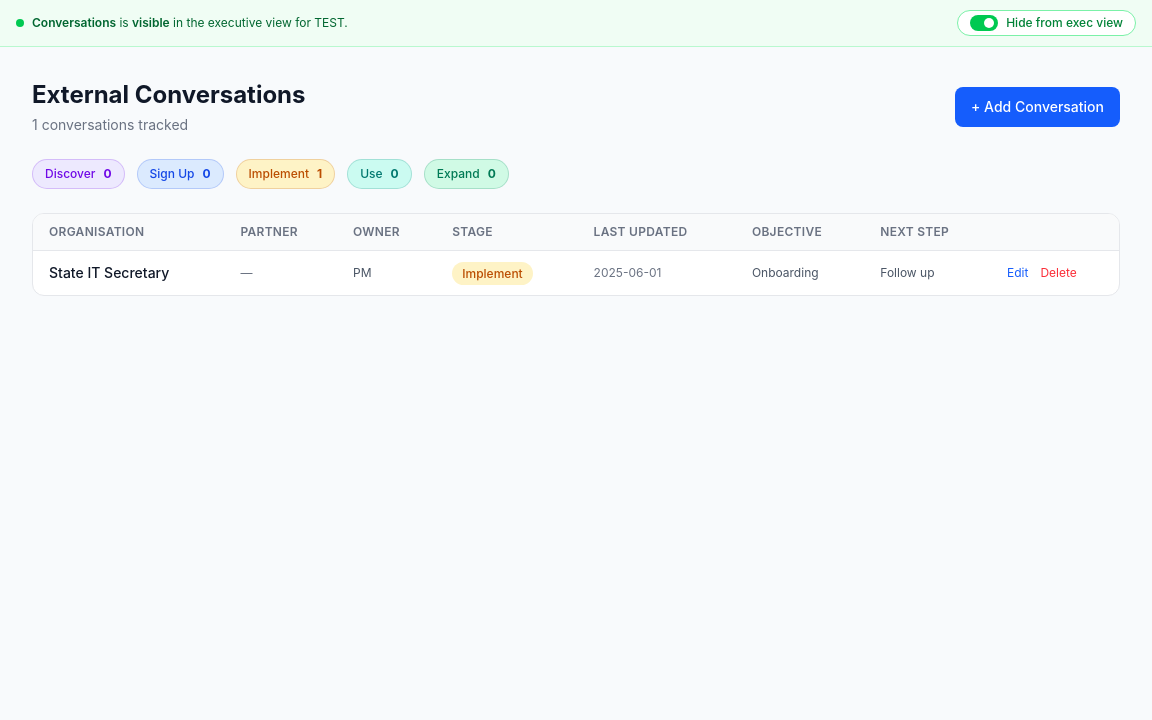
ConversationEditor › T-38.08: editing existing conversation saves via else branch
expect the text "State IT Secretary" is shown: met, box [33, 250, 224, 295]
Click the button "Edit": click(1018, 273) [1007, 265, 1028, 281]
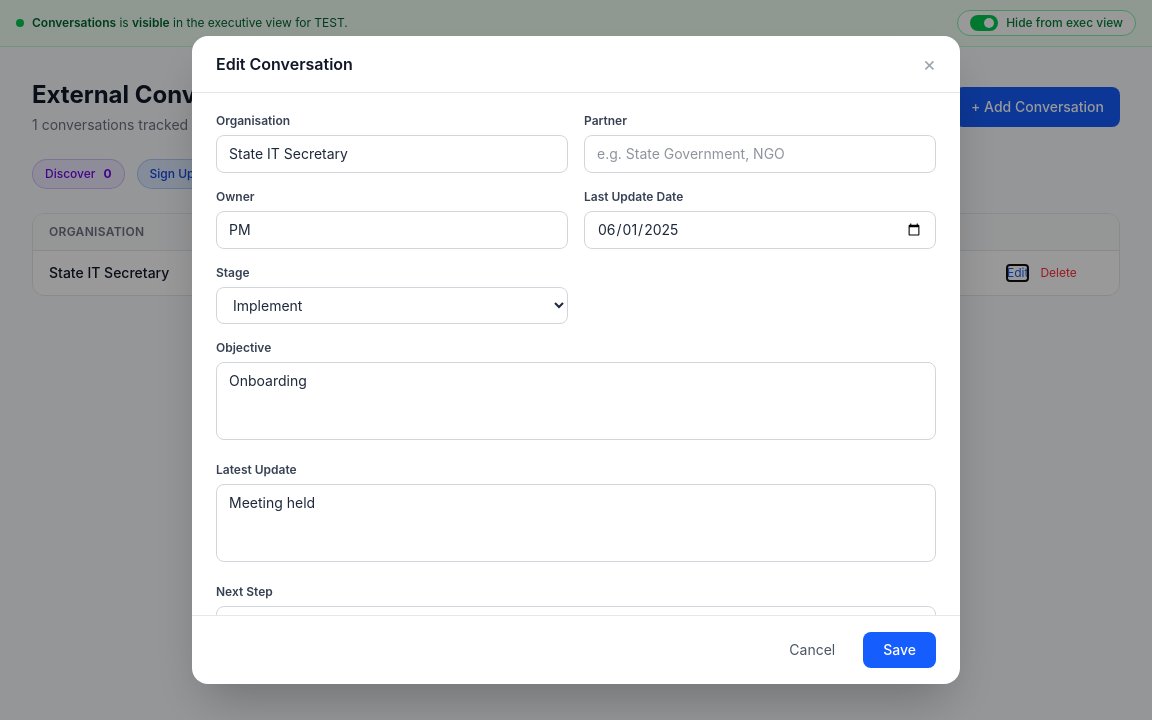
expect the heading "Edit Conversation" is shown: met, box [216, 52, 353, 76]
# Change the organization name
Replace the text in the 1st field with "Updated Organization": (392, 154) [216, 135, 568, 173]
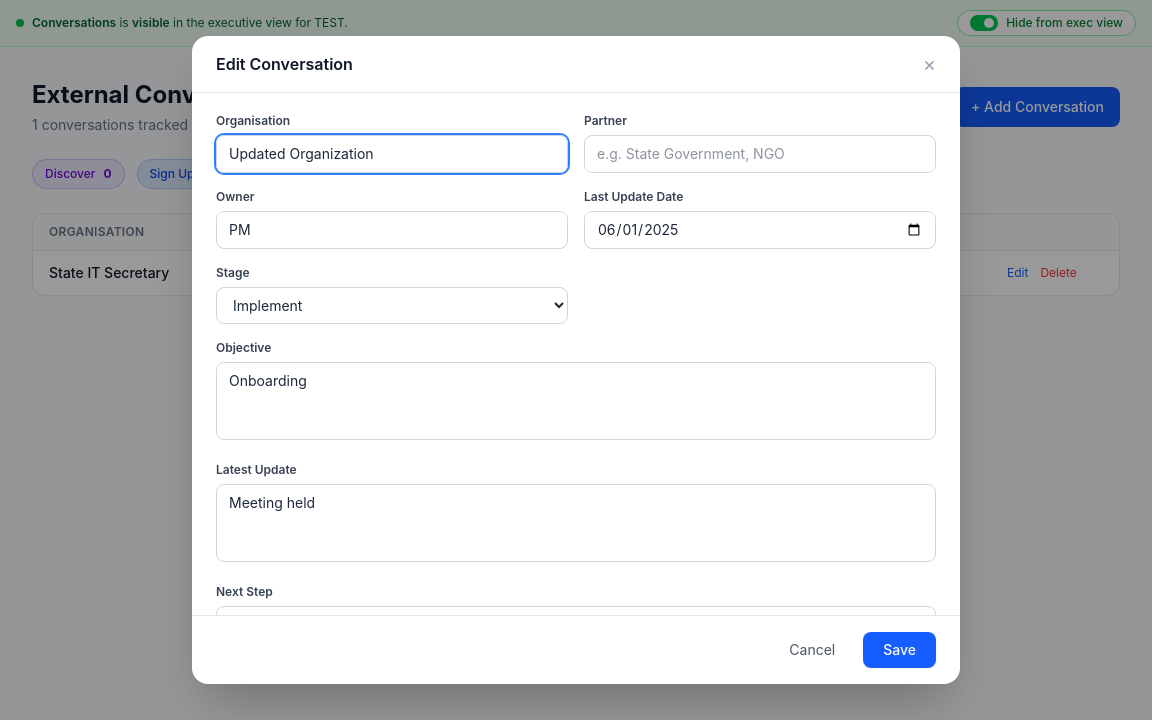
Click the button "Save": click(900, 650) [863, 632, 936, 668]
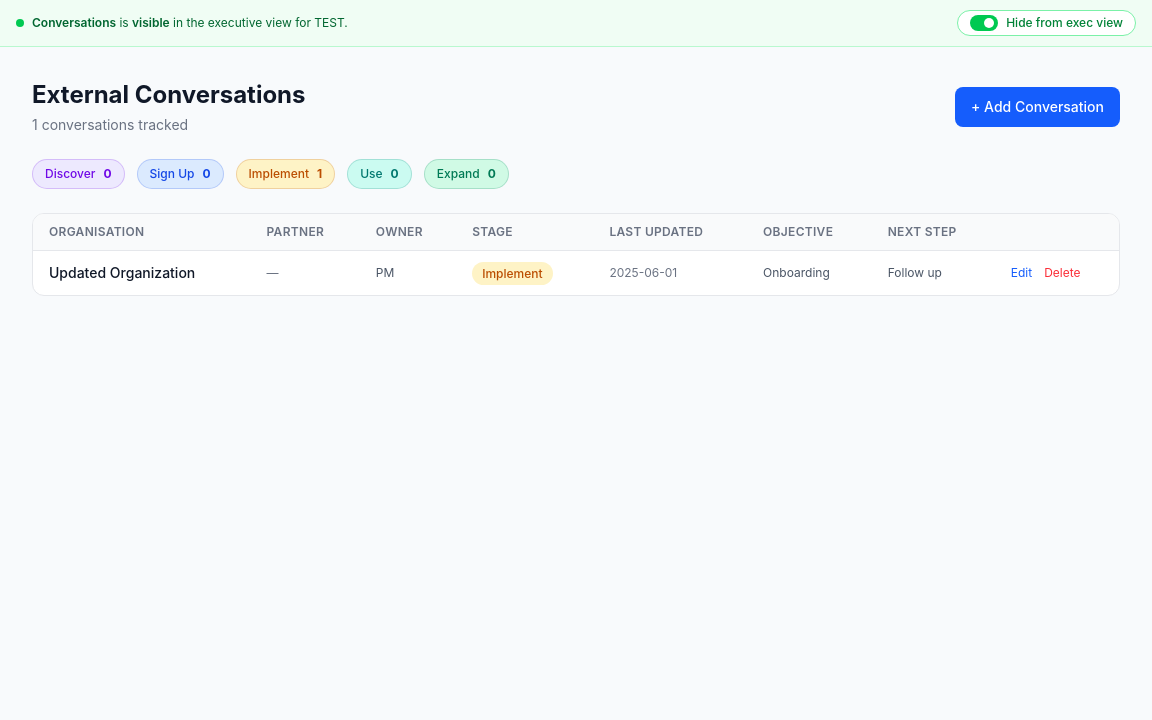
expect the text "Updated Organization" is shown: met, box [33, 250, 250, 295]
